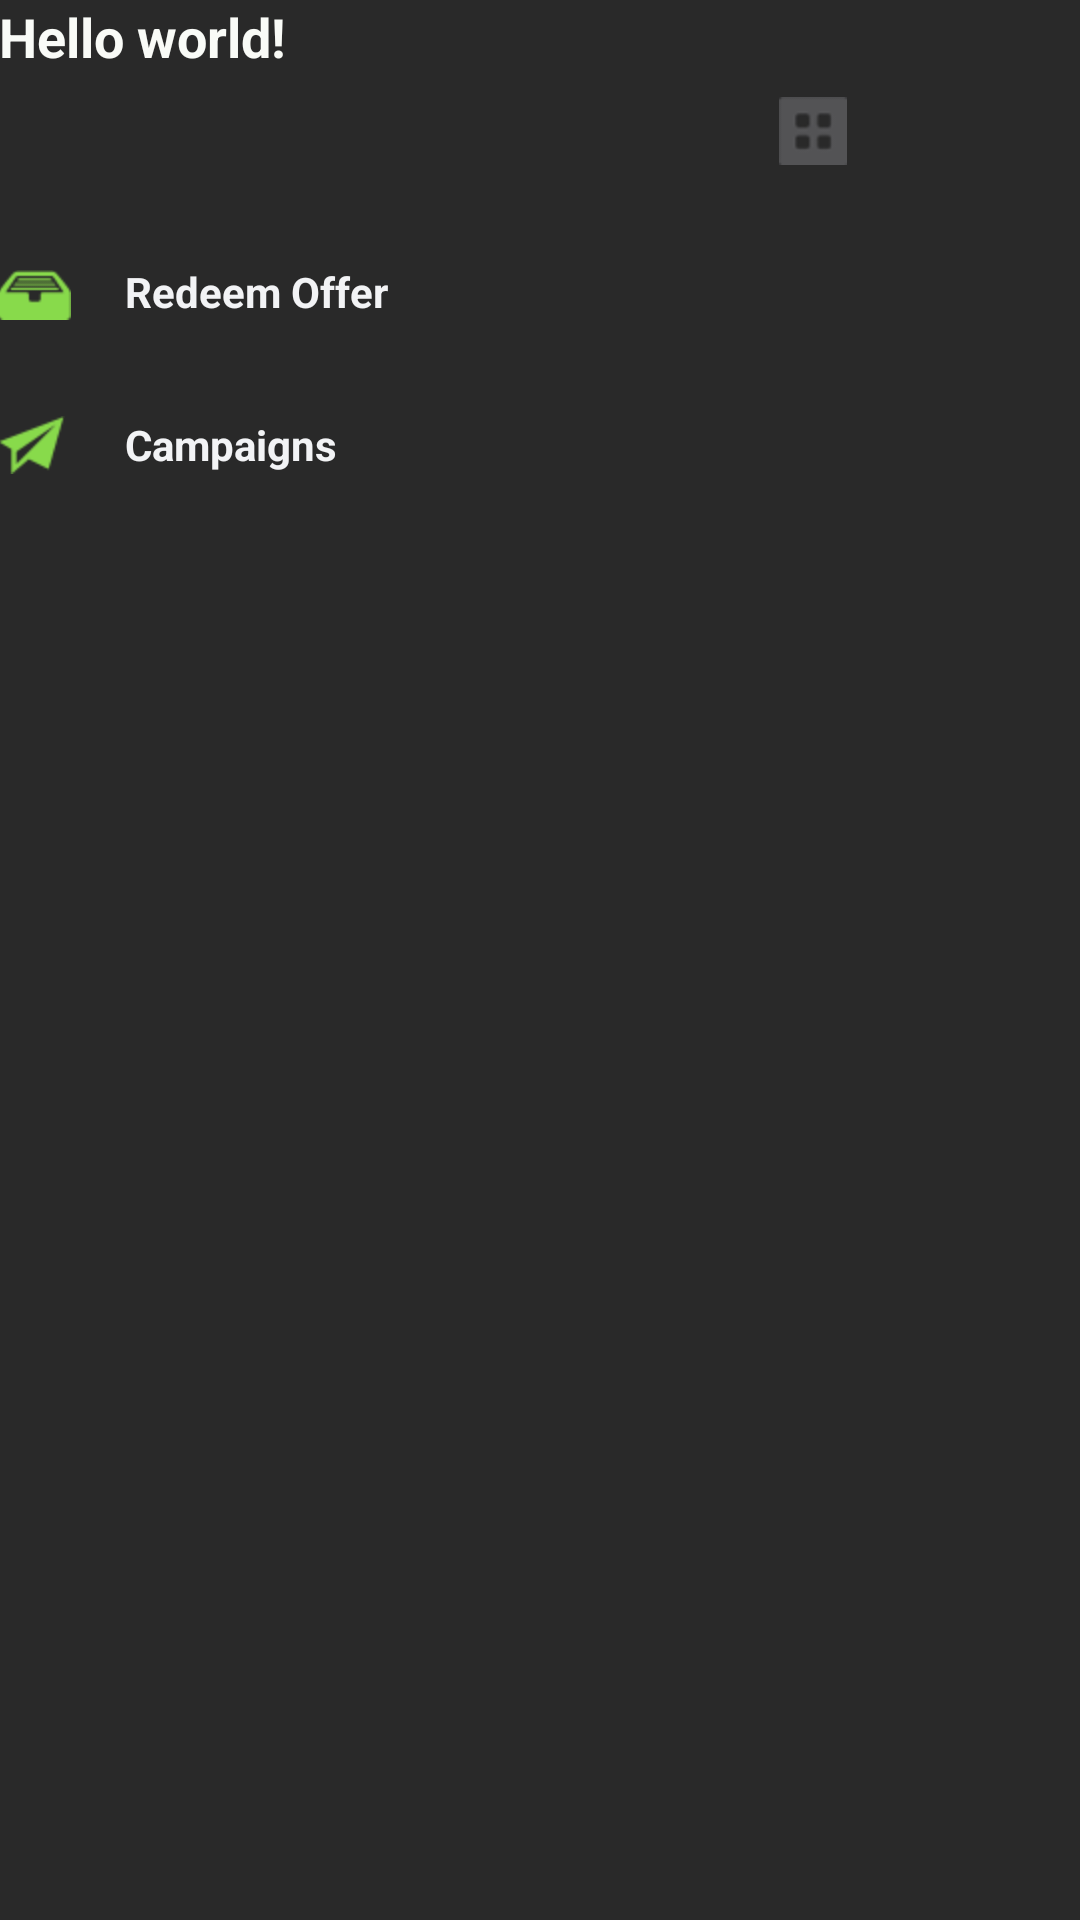

Screen size 1080 x 1920. Icon name, then its center in pixels as (x=x, y=y):
Company list: (x=813, y=131)
